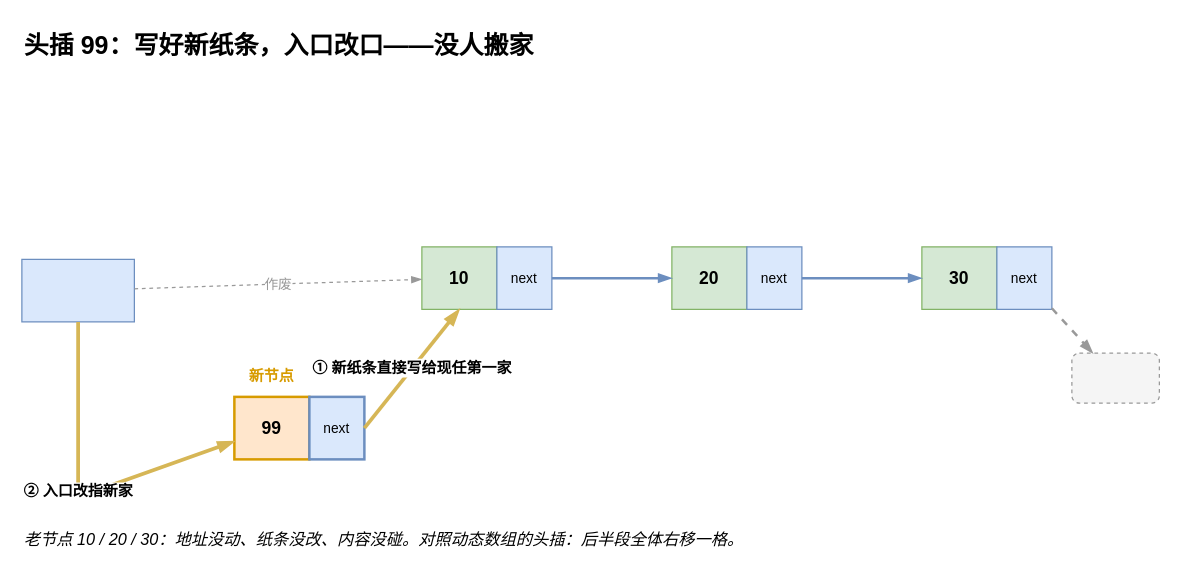
This 1181x580 diagram has some shape labels left out. The box of each missing label's shape, as (x1, y1, x2, y2) in pixels:
head: (21, 258, 134, 322)
nullptr: (1071, 352, 1159, 403)
